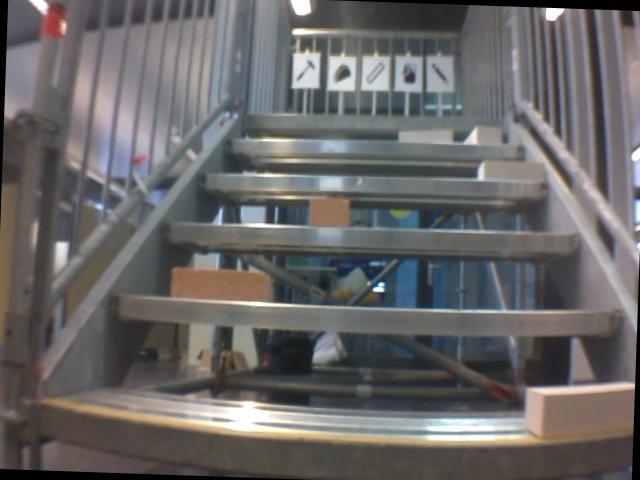brick: (524, 378, 635, 441), (170, 267, 272, 302), (478, 160, 542, 180), (308, 198, 349, 226), (397, 128, 451, 143), (462, 124, 501, 144)
bucket: (395, 60, 420, 86)
edge: (38, 404, 632, 480), (112, 292, 620, 339), (160, 220, 585, 255), (197, 169, 549, 196), (227, 134, 520, 157), (247, 110, 511, 132)
hammer: (293, 56, 318, 84)
pencil: (429, 60, 450, 85)
ruler: (363, 59, 385, 85)
steps: (36, 98, 640, 480)
taco: (329, 60, 353, 85)
